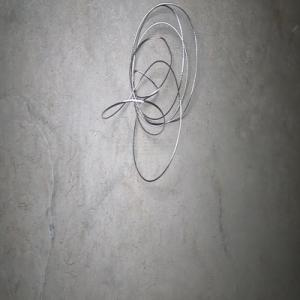Wire: (101, 1, 197, 182)
